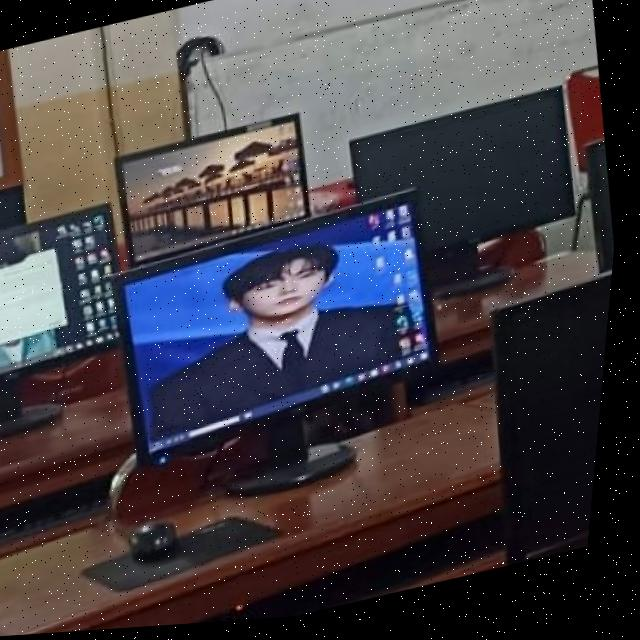offscreen: (355, 96, 578, 254), (499, 281, 618, 570)
onscreen: (123, 197, 441, 464), (122, 119, 312, 267), (0, 208, 122, 374)
